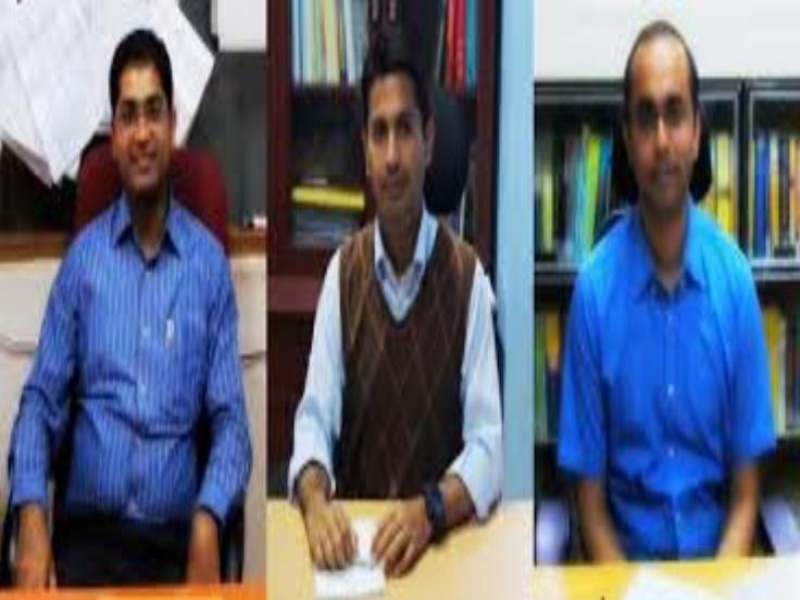TsisyArotava: (606, 32, 721, 217), (96, 28, 183, 203), (353, 63, 442, 227)
